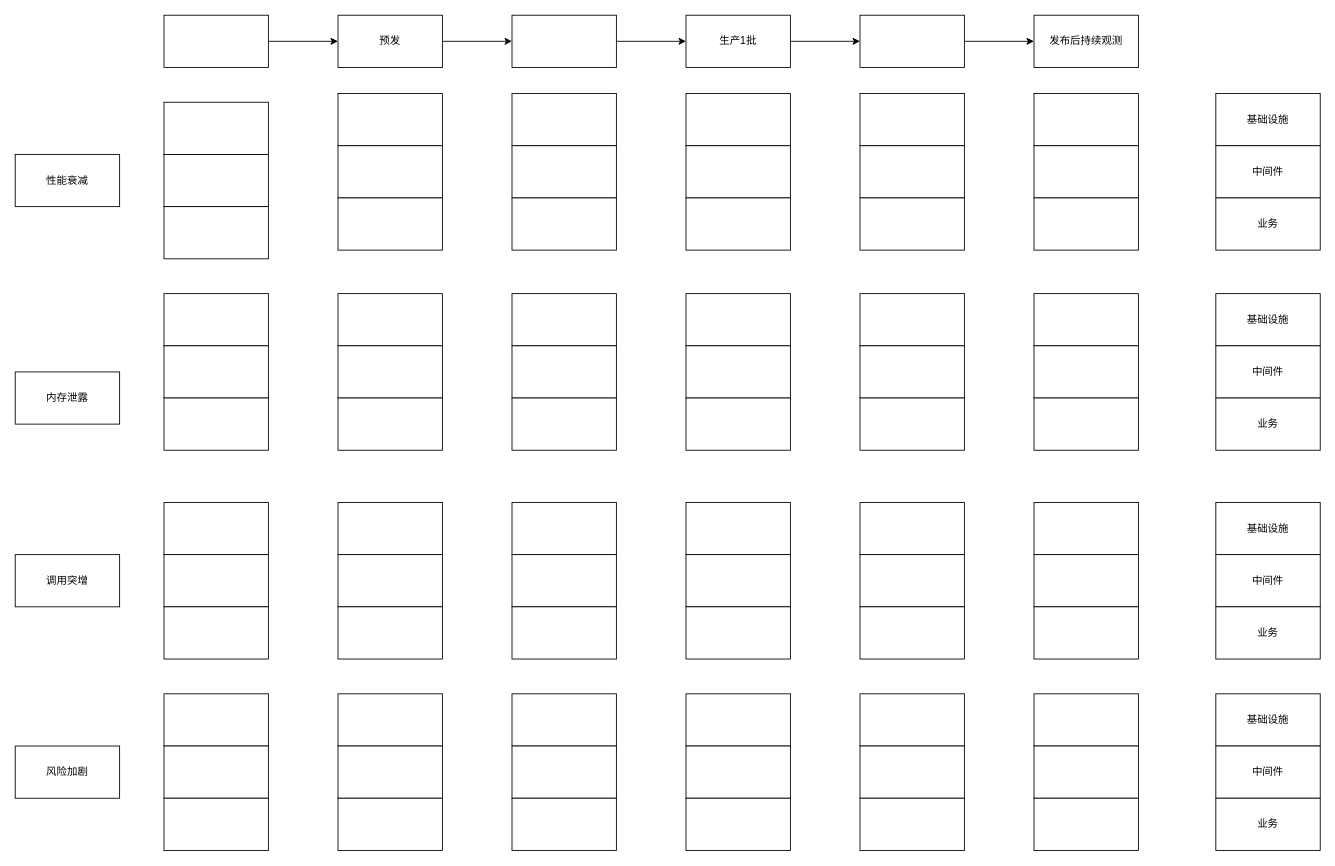
Image size: 1335x866. Some labels were removed from this diagram. The shapes that lost their labels are listed below. From the top down, each one's centre as x and y in pixels, then its label:
At [215,40]: "变更事前".
At [563,40]: "灰度".
At [911,40]: "生产2批".
